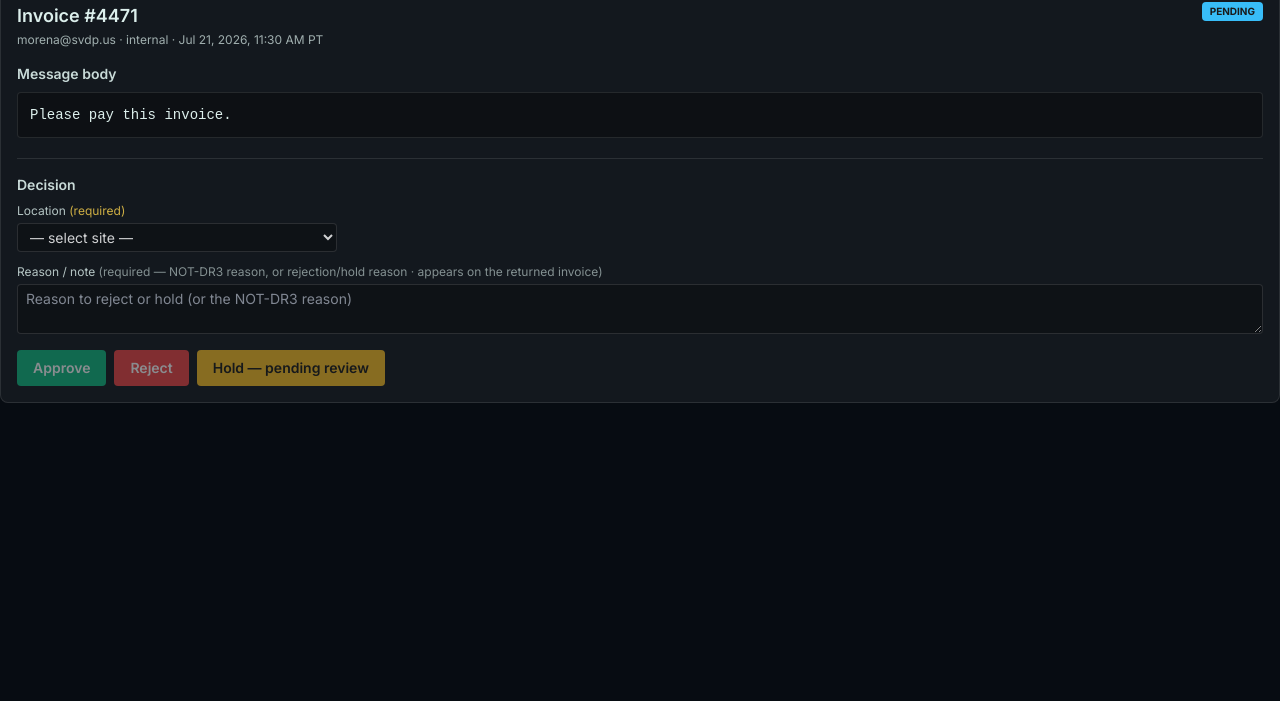
Test case: DetailPanel — already-approved invoice (ADR-0136) › a same-file match says the same file was approved and names the statement case
Step 1. Select "Woodland" in the dropdown → (177, 238), box [17,223,337,252]
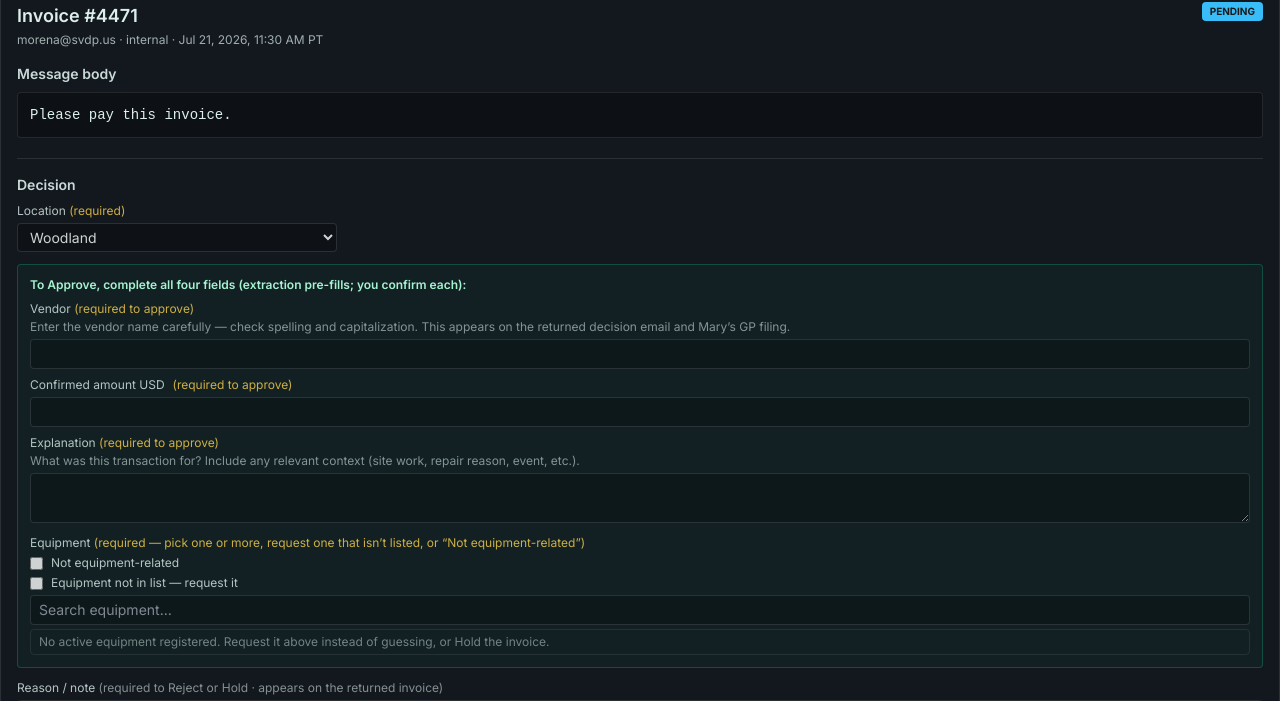
Step 2. Type "Inter State Oil" into the field labelled "Enter the vendor name carefully" → (640, 354), box [30,339,1250,369]
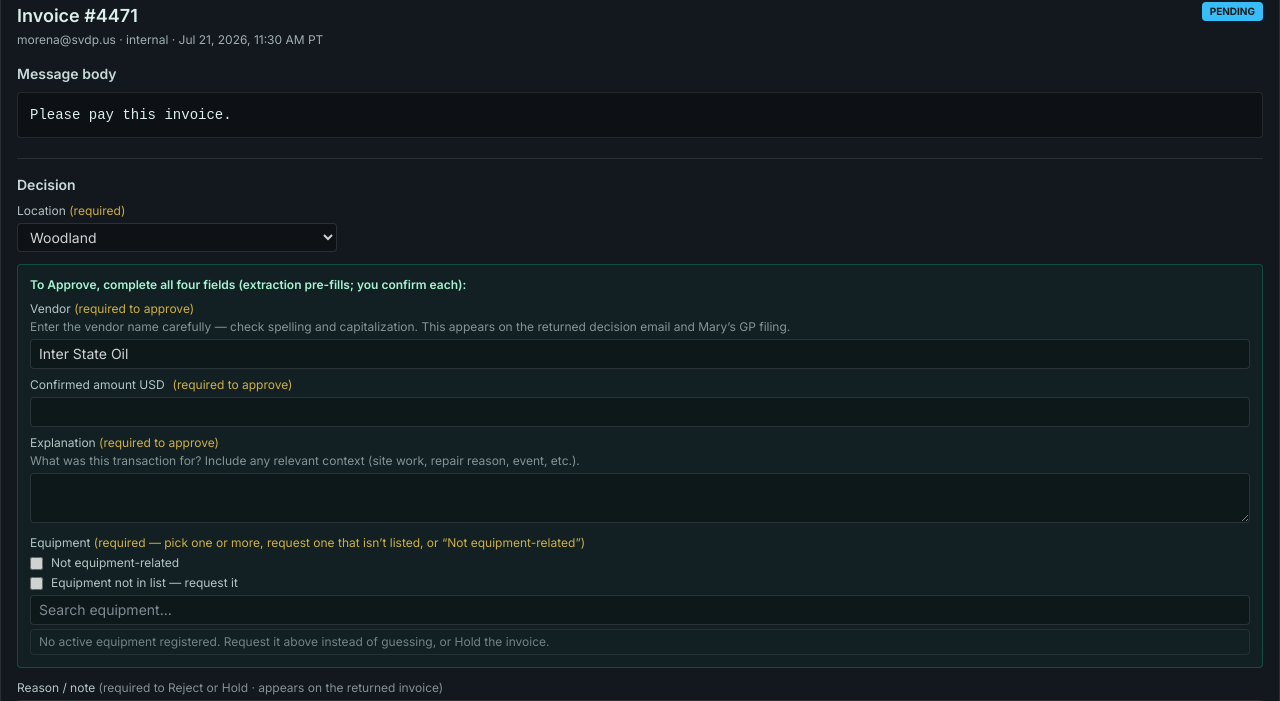
Step 3. Type "403.01" into the field labelled "Confirmed amount USD (required to approve)" → (640, 412), box [30,397,1250,427]
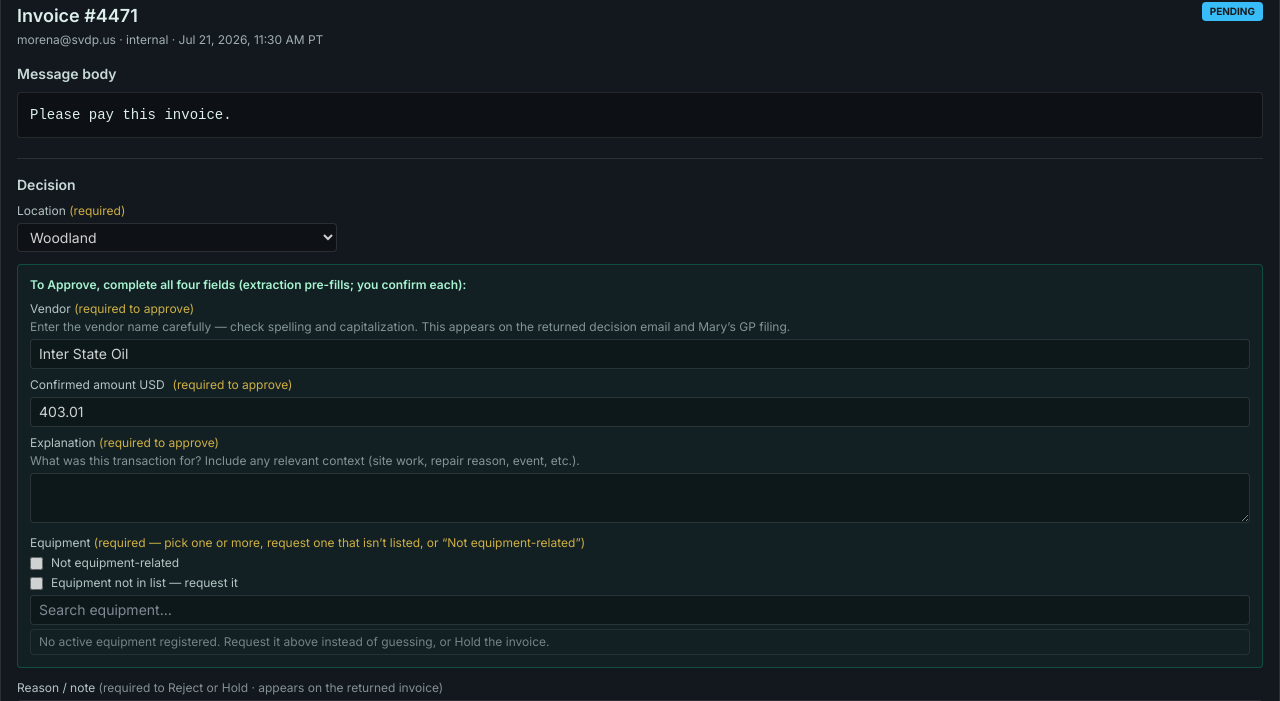
Step 4. Type "fuel" into the text box labelled "What was this transaction for" → (640, 498), box [30,473,1250,523]
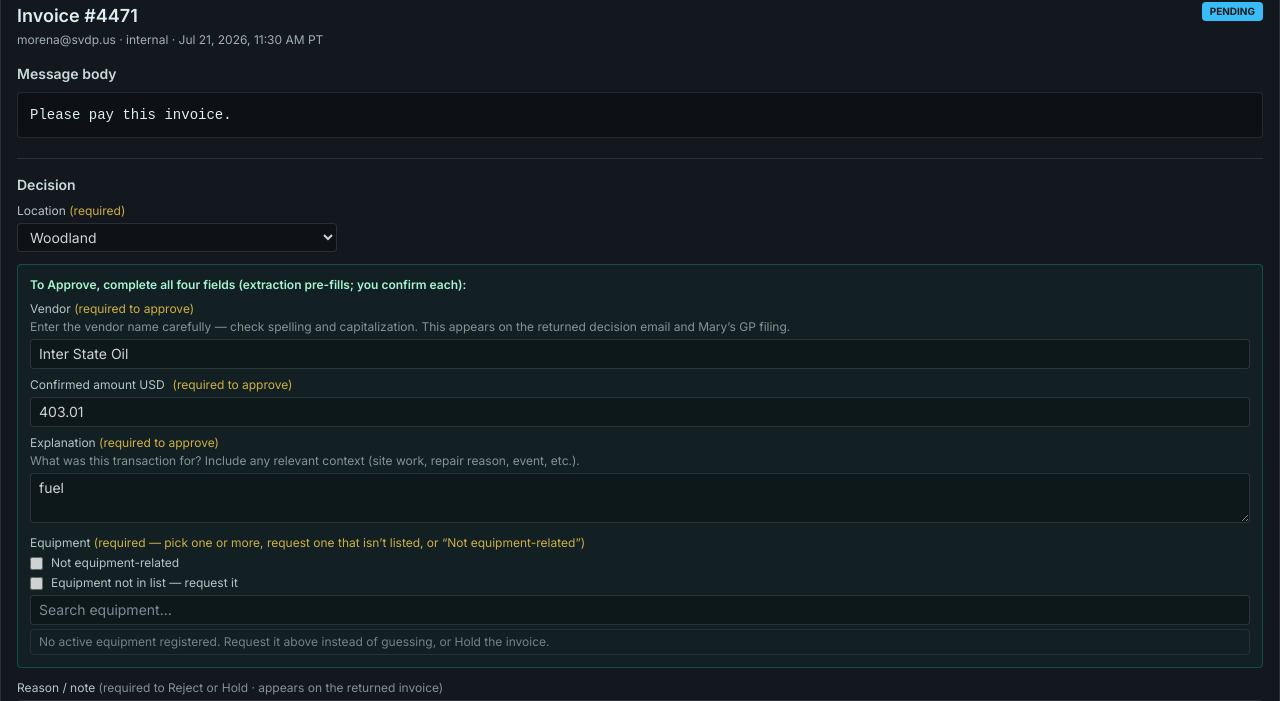
Step 5. Click the checkbox labelled "Not equipment-related" → (36, 563), box [30,556,43,570]
(page scrolled)
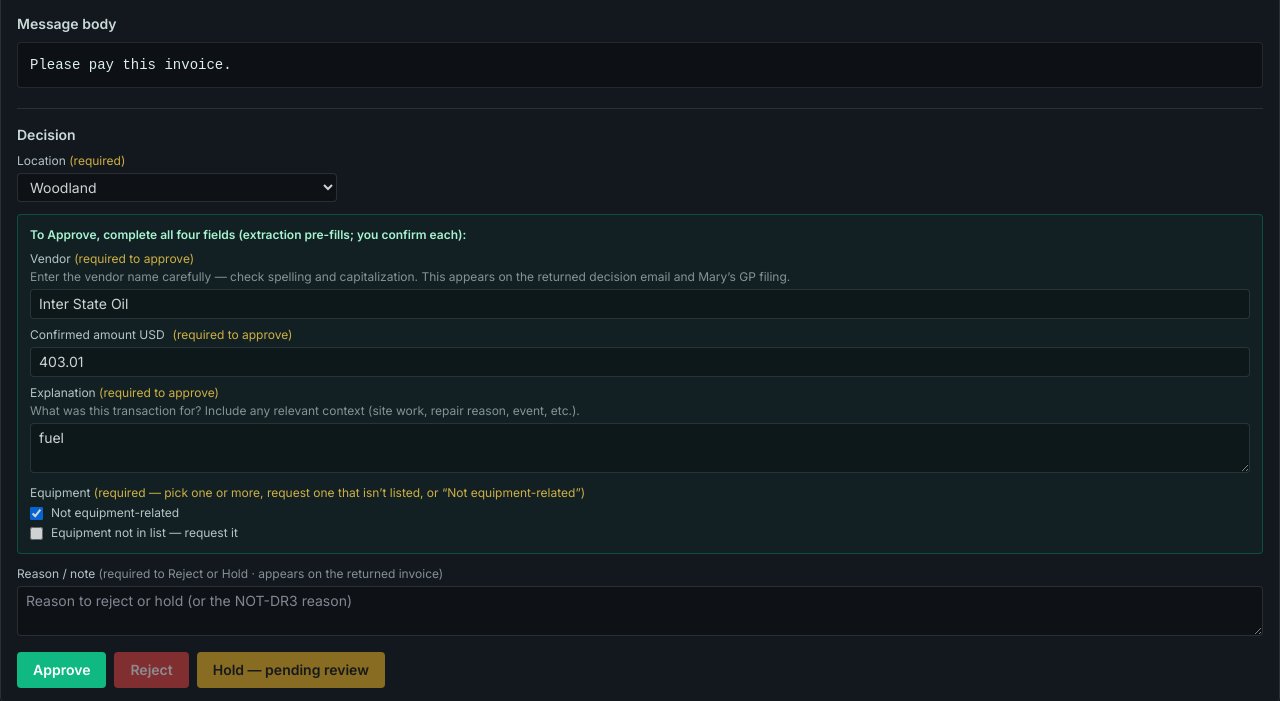
Step 6. Click the button "Approve" → (62, 670), box [17,652,106,688]
(page scrolled)
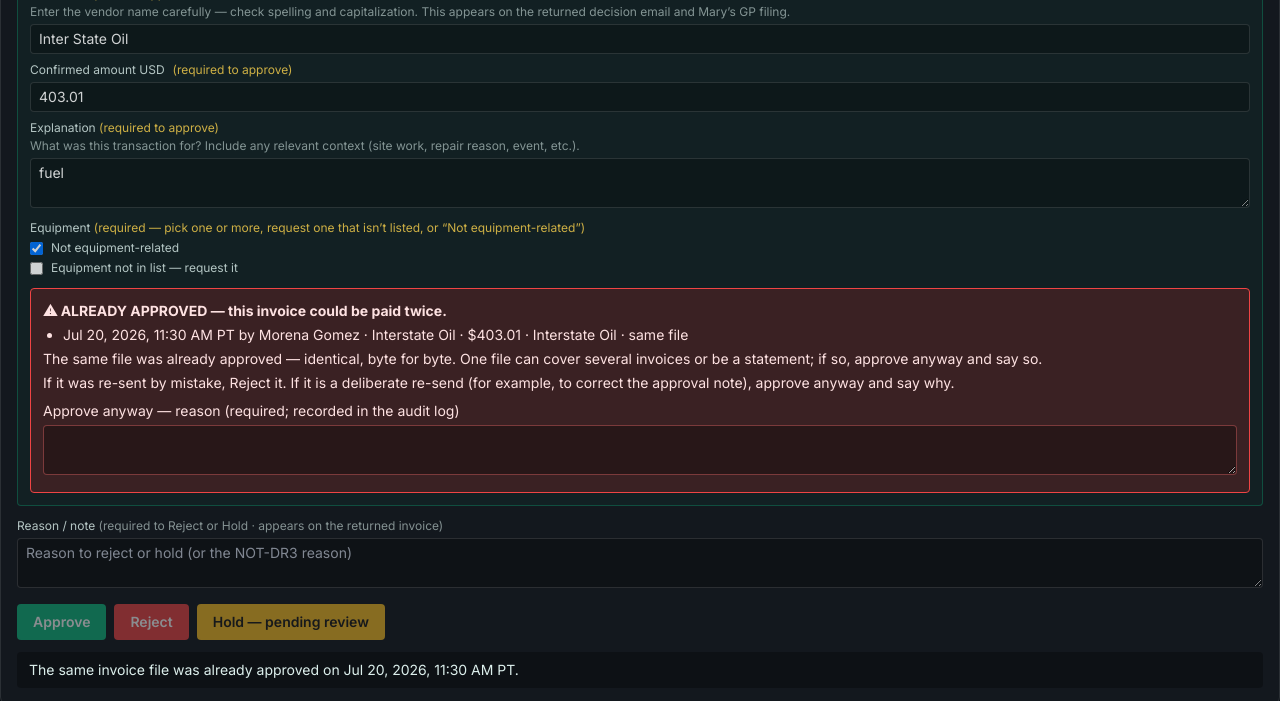
expect the message shows "ALREADY APPROVED — this invoice": met, box [30,288,1250,493]
expect the message shows "Interstate Oil · same file": met, box [30,288,1250,493]
expect the message shows "The same file was already approved": met, box [43,350,1042,367]
